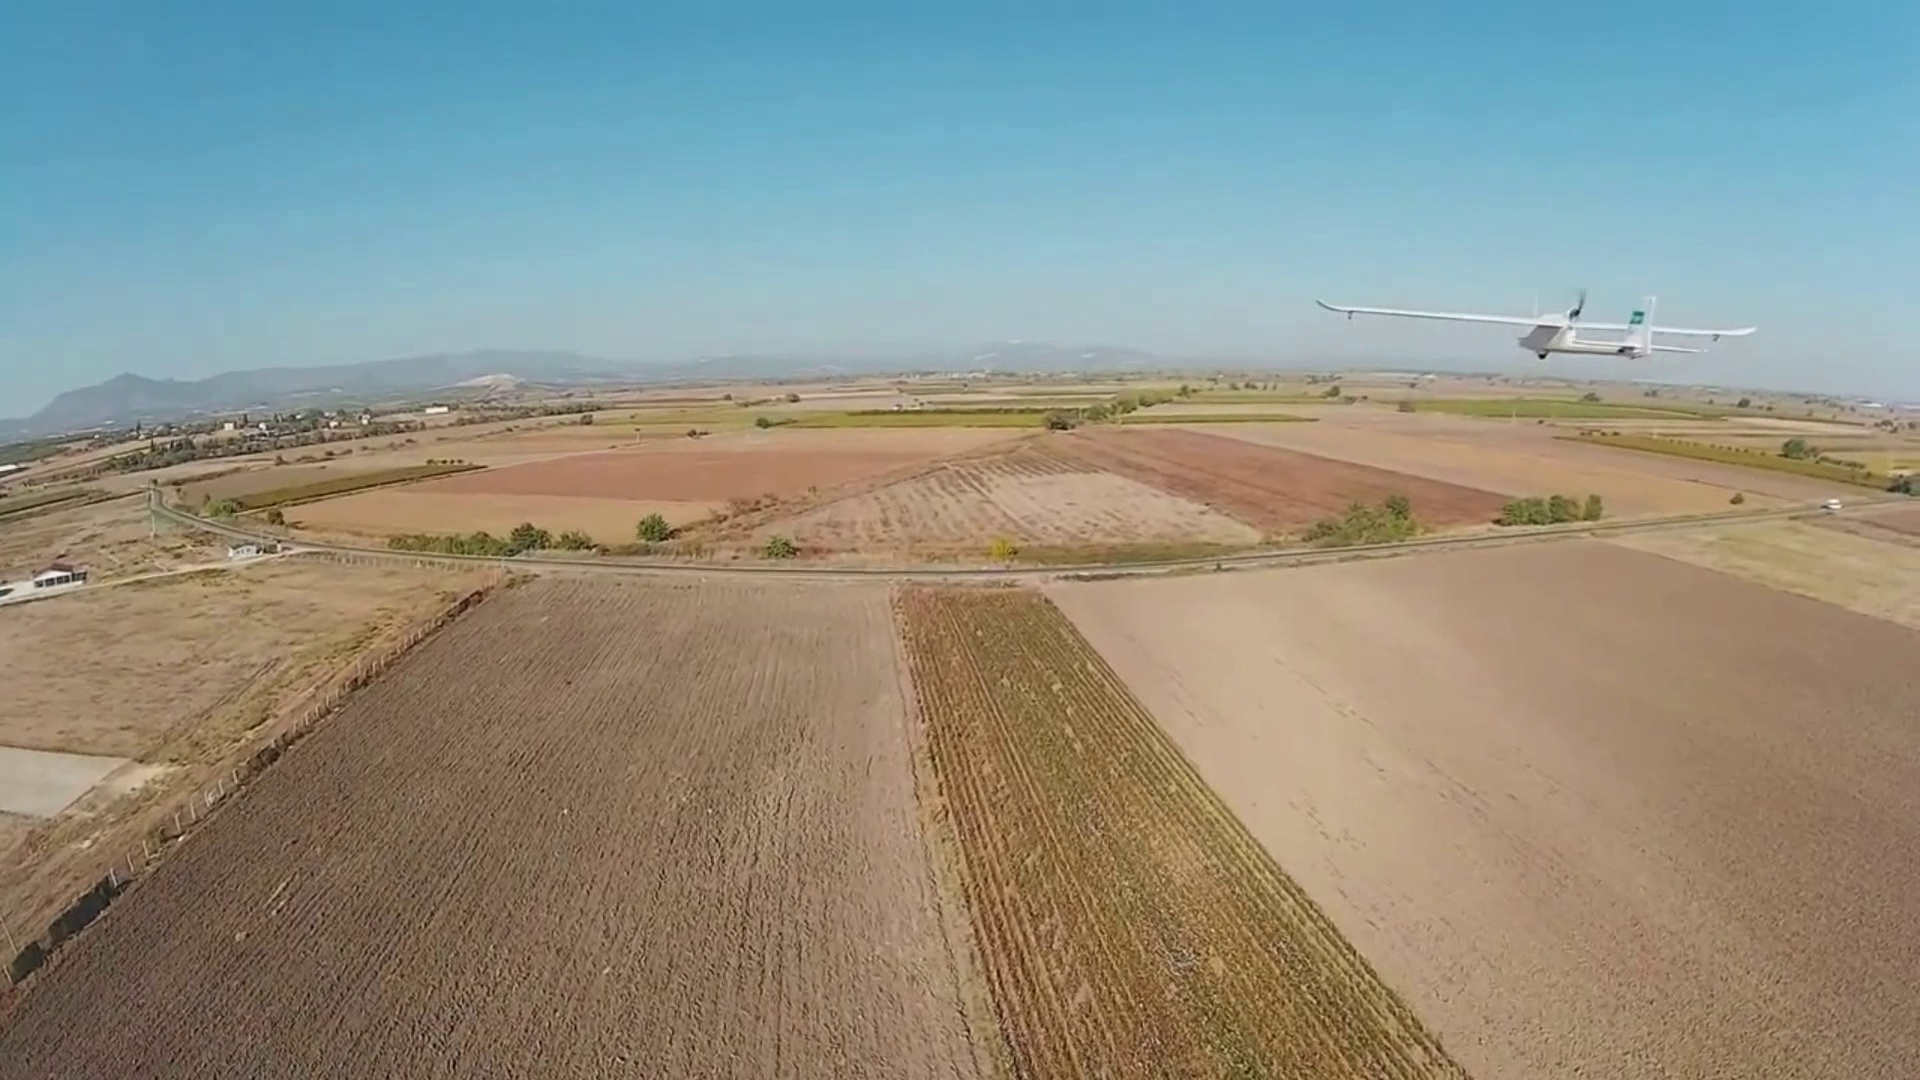airplane: (1316, 287, 1759, 372)
